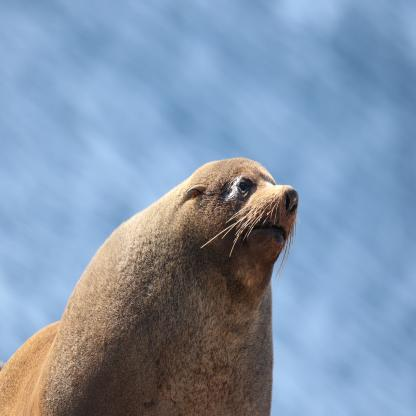face: (222, 172, 299, 263)
